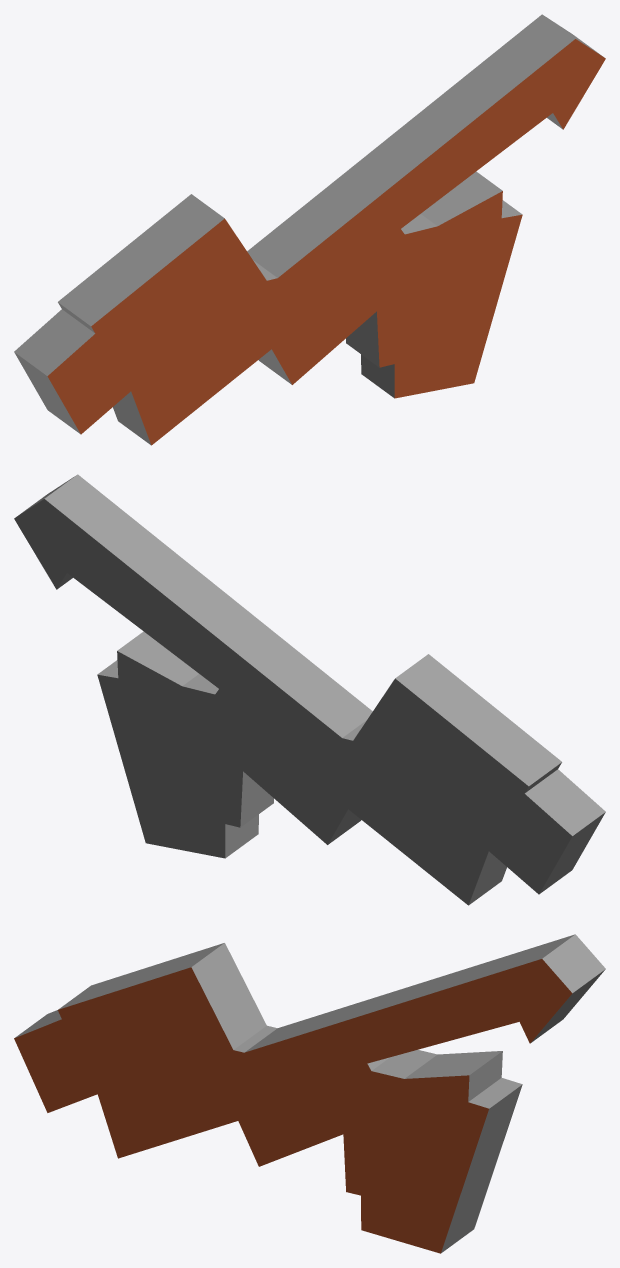
The model's file is construction_0351_assumed_A_Casa_h6m.obj.
3 views of the same model, one above another, from view 1: azimuth 30°, elevation 25°; view 2: azimuth 150°, elevation 25°; view 3: azimuth 330°, elevation 25° (orthographic).
Visible parts, largest first — view 1: construction_0351_assumed_A_Casa; view 2: construction_0351_assumed_A_Casa; view 3: construction_0351_assumed_A_Casa.
Part boxes in pixels (x1,y1,x2,y2): construction_0351_assumed_A_Casa: [14, 14, 605, 445]; construction_0351_assumed_A_Casa: [14, 474, 605, 905]; construction_0351_assumed_A_Casa: [14, 934, 605, 1253].
Bounding box in the file's own units: 57.82 × 31.63 × 6.
